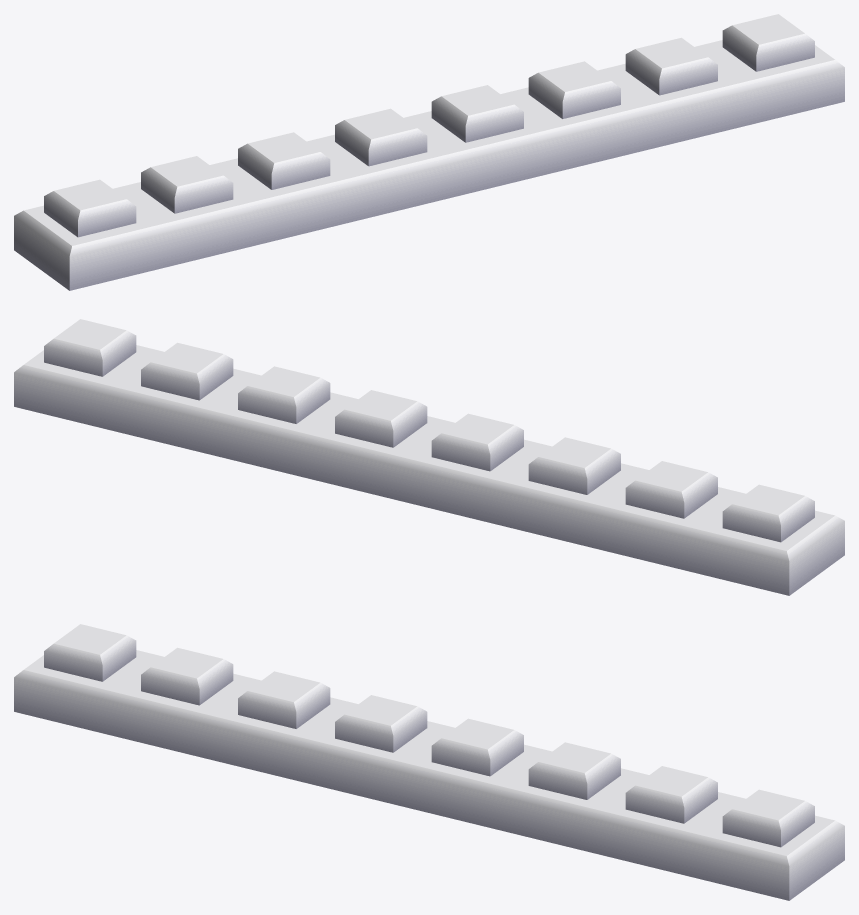
File: square_hq_plate_1x8.glb
3 views of the same model, one above another, from view 1: azimuth 30°, elevation 25°; view 2: azimuth 150°, elevation 25°; view 3: azimuth 330°, elevation 25° (orthographic).
Parts seen in each view (by area): view 1: square-hq-plate-1x8; view 2: square-hq-plate-1x8; view 3: square-hq-plate-1x8.
Part boxes in pixels (x1,y1,x2,y2): square-hq-plate-1x8: (14,14,844,290); square-hq-plate-1x8: (14,319,844,595); square-hq-plate-1x8: (14,624,844,900).
Bounding box in the file's own units: 0.636 × 0.05 × 0.079.
Materials: 1 (1 with a texture image).
